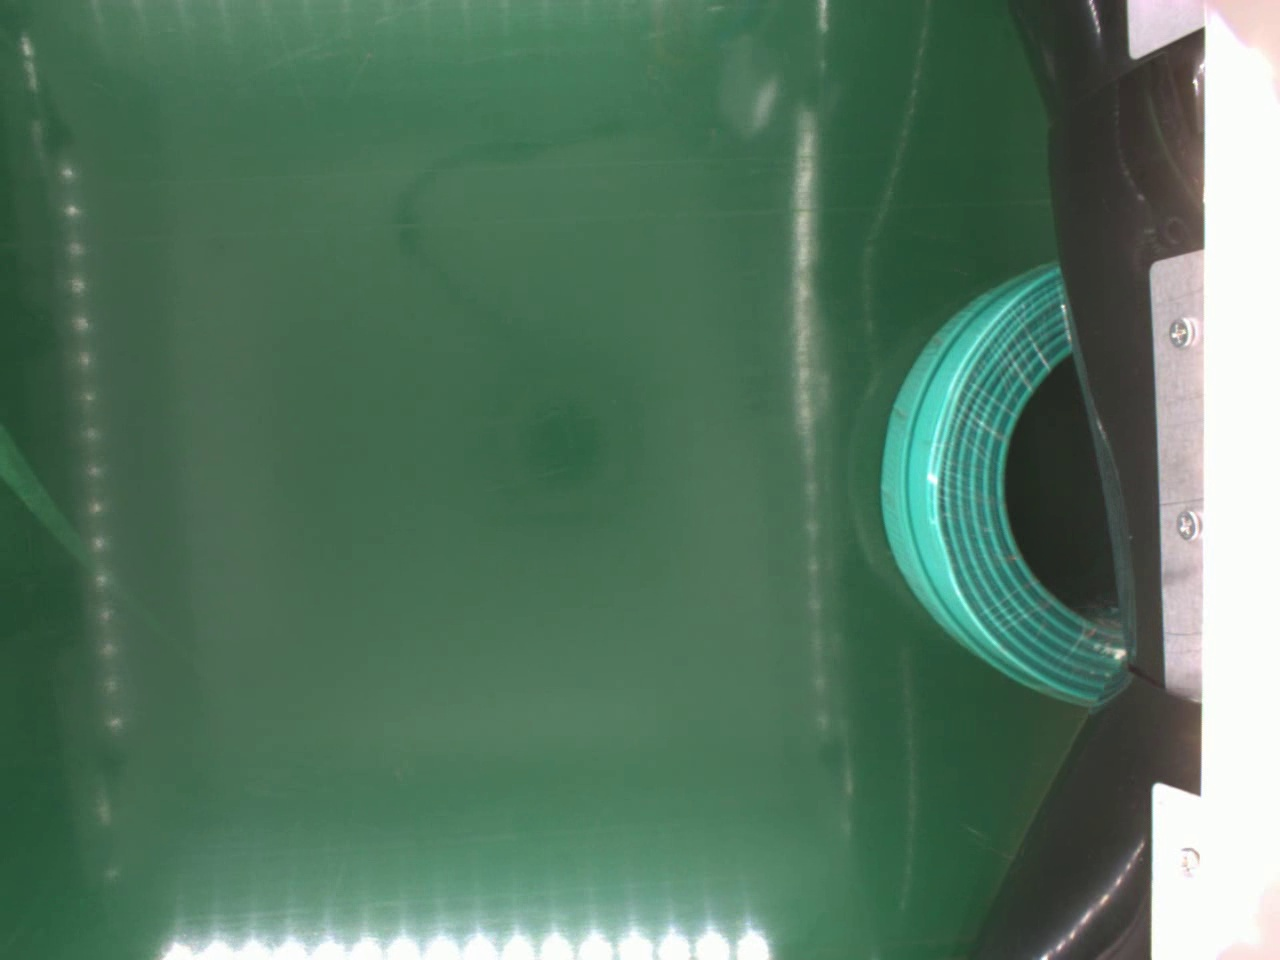green: (884, 265, 1127, 705)
